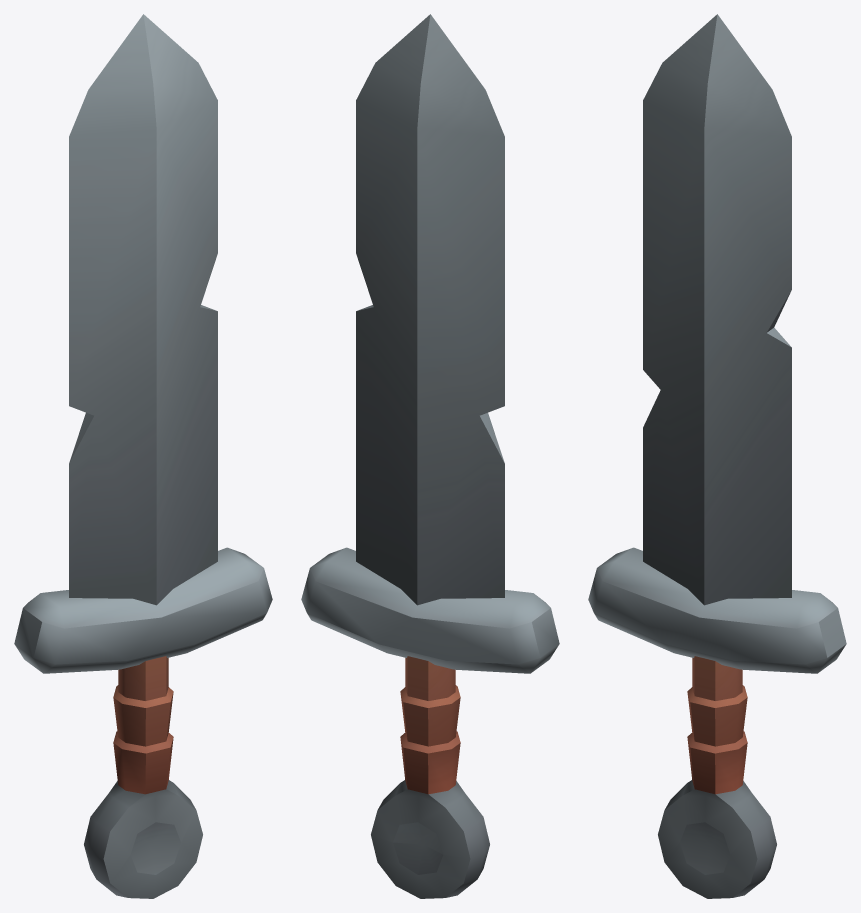
File: sword_1handed.glb
3 views of the same model, side by side, from view 1: azimuth 30°, elevation 25°; view 2: azimuth 150°, elevation 25°; view 3: azimuth 330°, elevation 25° (orthographic).
Parts seen in each view (by area): view 1: sword_1handed; view 2: sword_1handed; view 3: sword_1handed.
Boxes of the visible parts, x1,y1,x2,y2 form: sword_1handed: (14, 14, 272, 898); sword_1handed: (301, 14, 559, 898); sword_1handed: (588, 14, 846, 898).
Bounding box in the file's own units: 0.5034 × 1.78 × 0.1306.
1 material, 1 textured.
